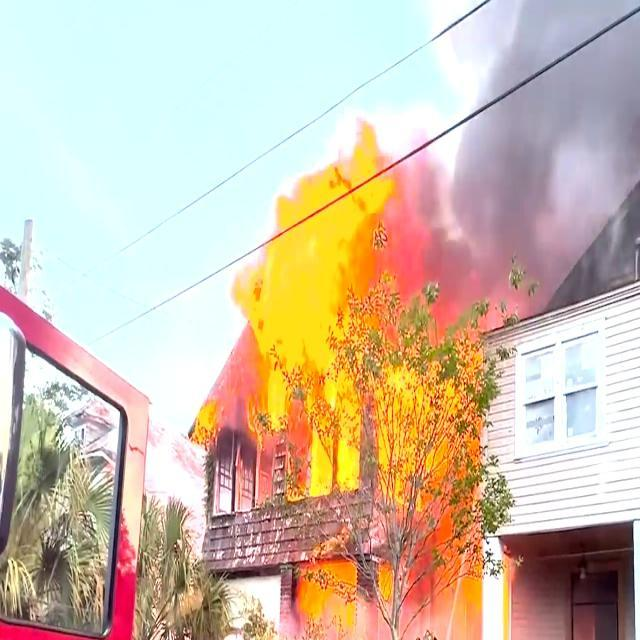Fire: (246, 177, 416, 390), (310, 404, 464, 517)
Smoke: (496, 5, 640, 161), (450, 160, 591, 280)
